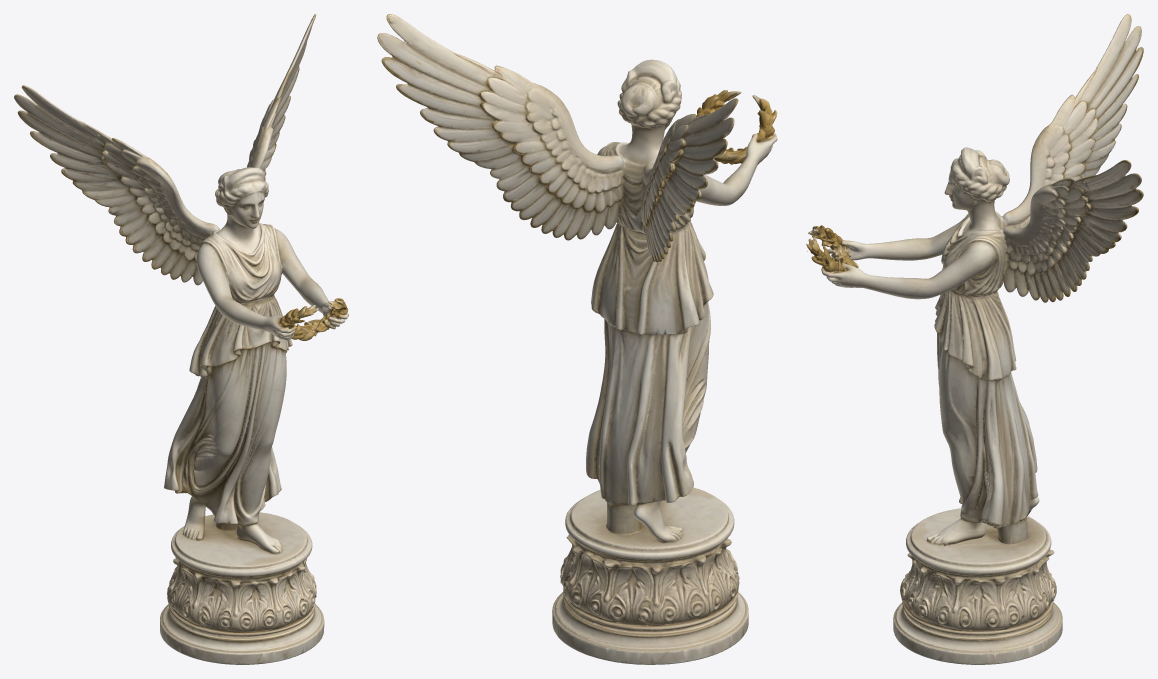
The model's file is victory.glb.
3 renders of one model, left to right at view 1: azimuth 30°, elevation 25°; view 2: azimuth 150°, elevation 25°; view 3: azimuth 270°, elevation 25°, orthographic. The views are drawn at different scales.
Bounding box in the file's own units: 36809 × 62217 × 35062.
Materials: 1 (1 with a texture image).
